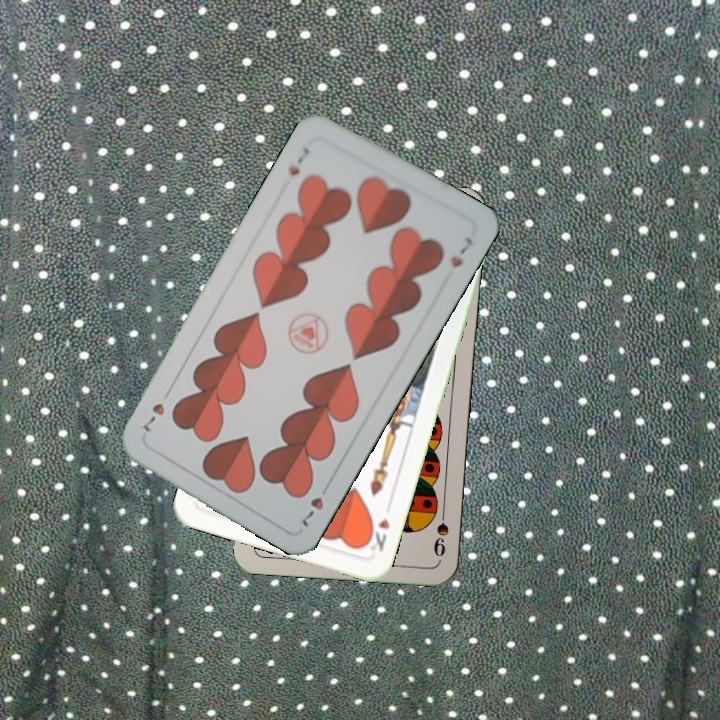H7: (298, 478, 333, 530), (284, 143, 313, 179)
HK: (361, 514, 393, 554)
S9: (430, 502, 451, 560)
